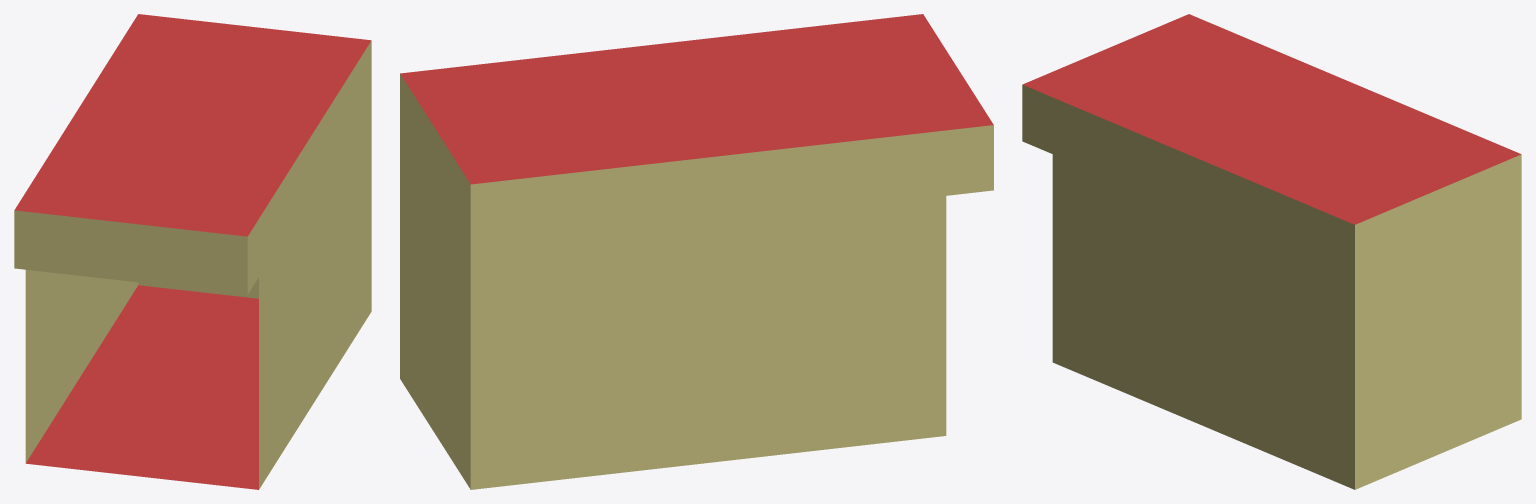
3 views of the same model, side by side, from view 1: azimuth 30°, elevation 25°; view 2: azimuth 150°, elevation 25°; view 3: azimuth 270°, elevation 25° (orthographic). The views are drawn at different scales.
Visible parts, largest first — view 1: group_4, group_3, group_5; view 2: group_4, group_3; view 3: group_4, group_3.
Boxes of the visible parts, x1,y1,x2,y2 form: group_4: [14, 41, 371, 489]; group_3: [14, 14, 371, 236]; group_5: [26, 285, 258, 489]; group_4: [400, 74, 993, 489]; group_3: [400, 14, 993, 184]; group_4: [1022, 85, 1521, 489]; group_3: [1022, 14, 1521, 224].
Bounding box in the file's own units: 19.08 × 19.1 × 11.18.
